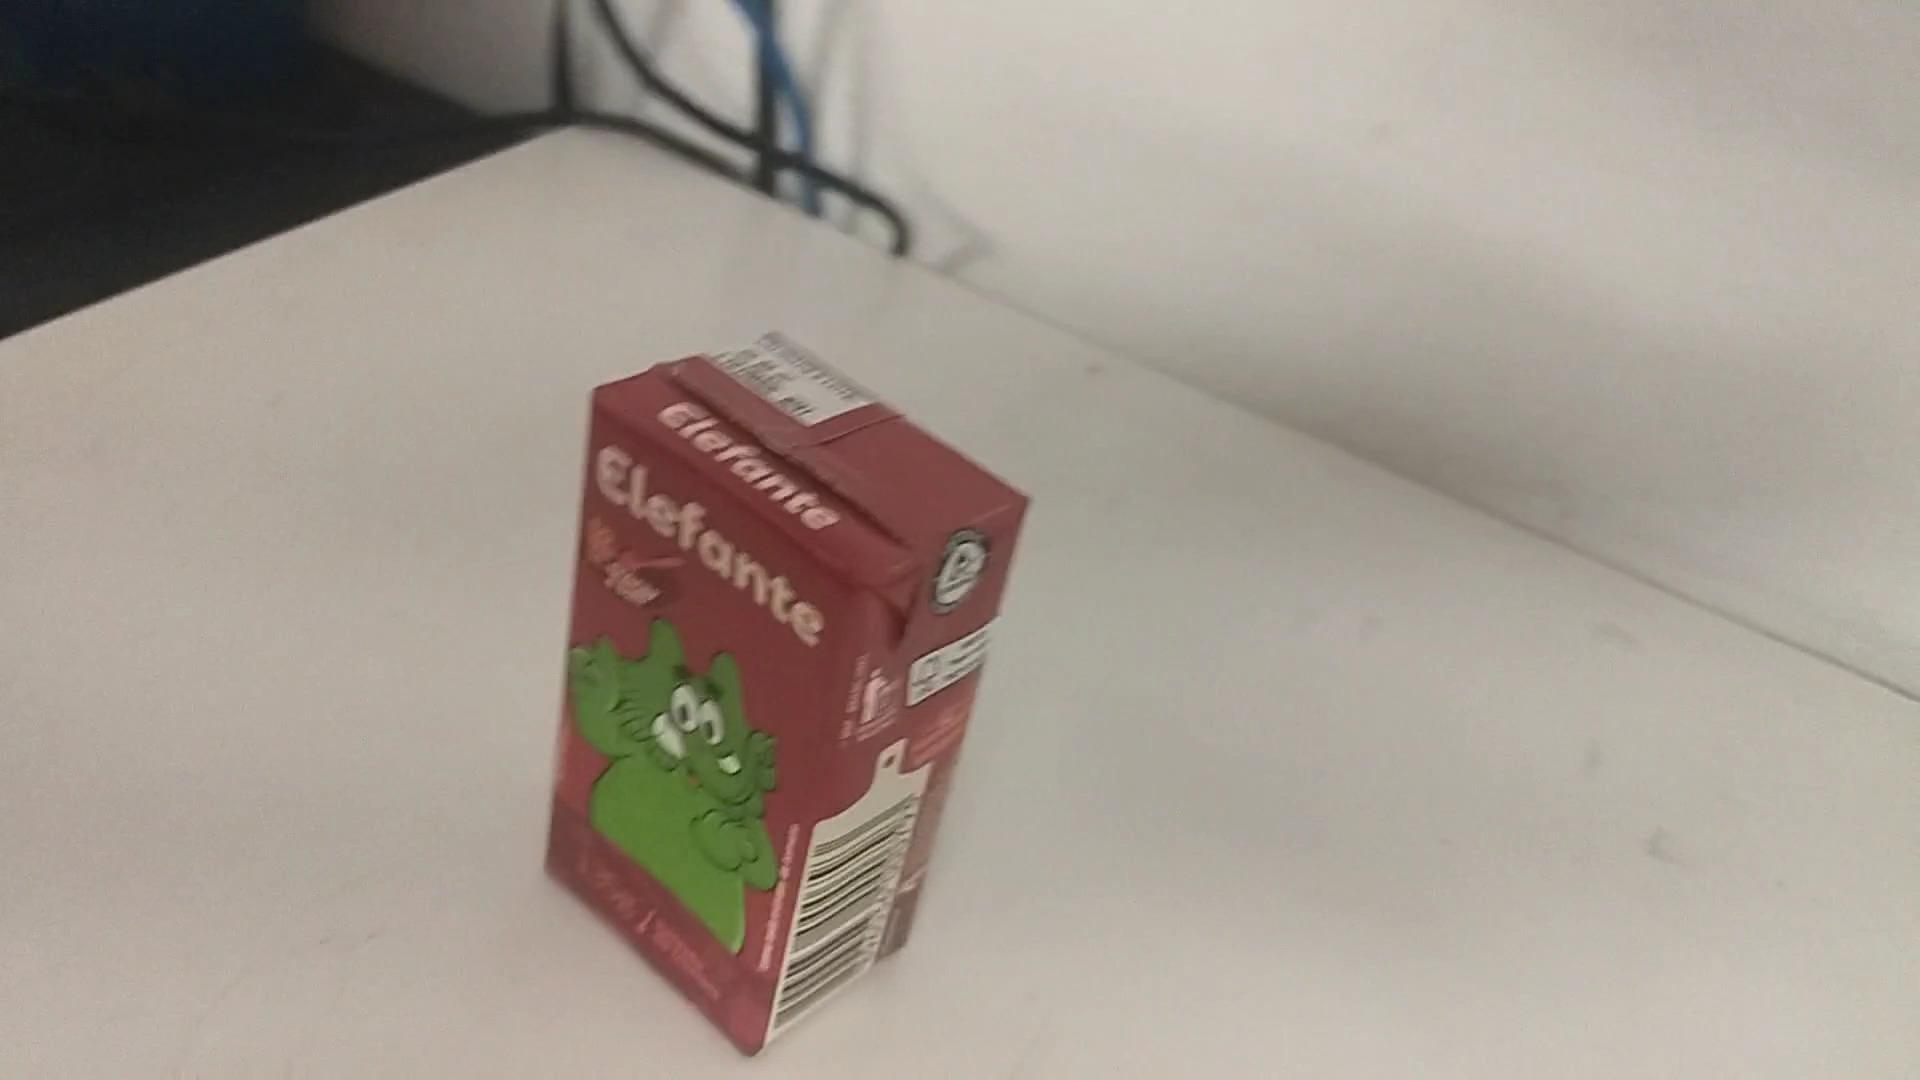tomate: (539, 319, 1035, 1050)
